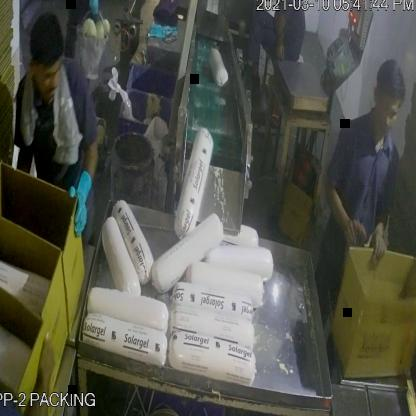glove: (61, 161, 98, 241)
no_glove: (319, 168, 369, 262), (368, 205, 392, 272)
